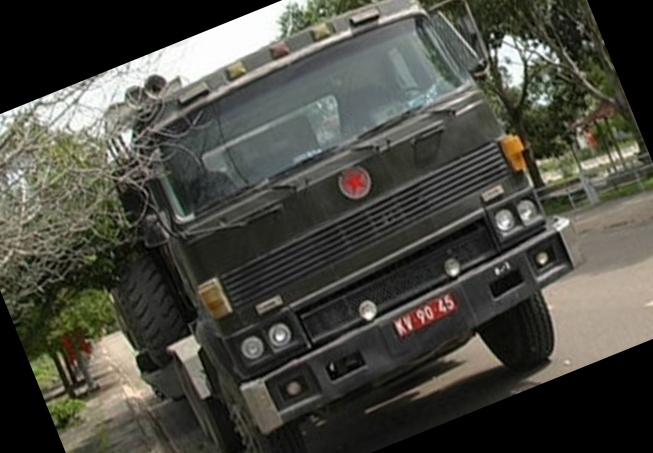plate: (389, 289, 460, 341)
